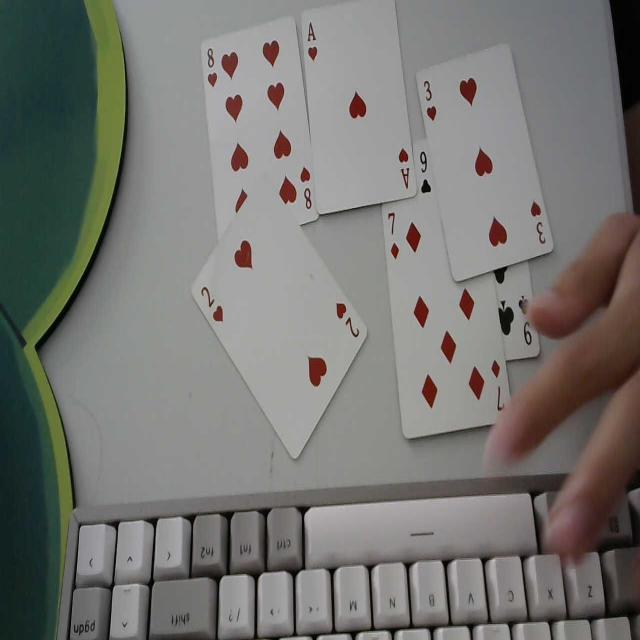2H: (199, 283, 227, 328), (334, 299, 362, 344)
3H: (528, 196, 548, 250), (422, 74, 440, 125)
7D: (490, 356, 510, 421), (386, 209, 402, 266)
8H: (299, 164, 315, 214), (204, 44, 219, 92)
9C: (519, 292, 537, 352), (415, 150, 435, 194)
AH: (397, 145, 411, 197), (306, 17, 320, 64)
